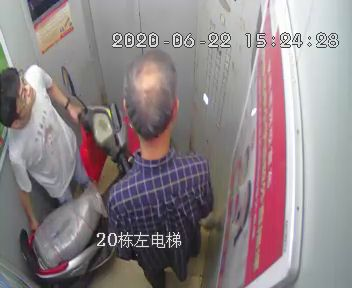Electric-bicycle: (20, 66, 123, 284)
